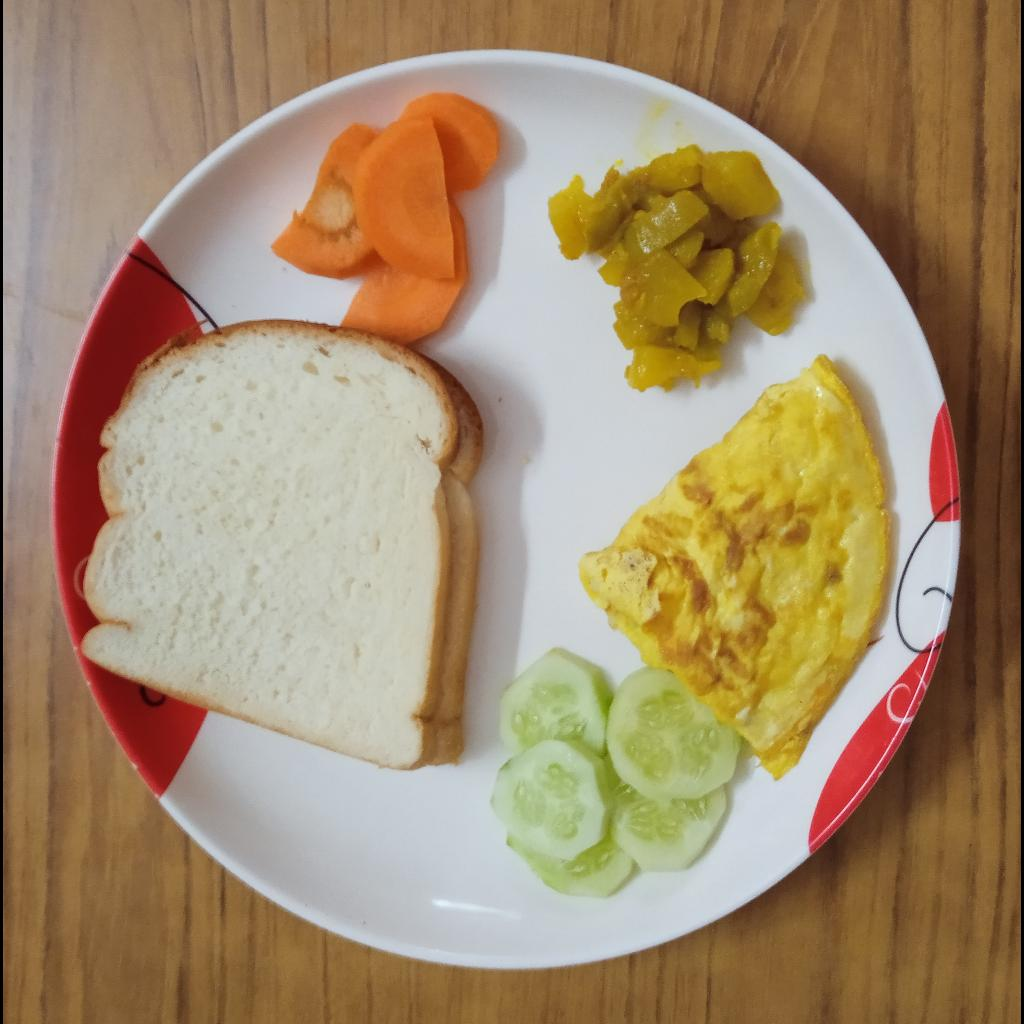bread: (80, 319, 484, 777)
carrot: (270, 87, 502, 340)
cucumber: (487, 653, 745, 904)
egg-poached: (574, 352, 899, 788)
potol: (551, 143, 809, 388)
